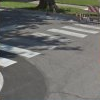crosswalk: (0, 24, 99, 68)
